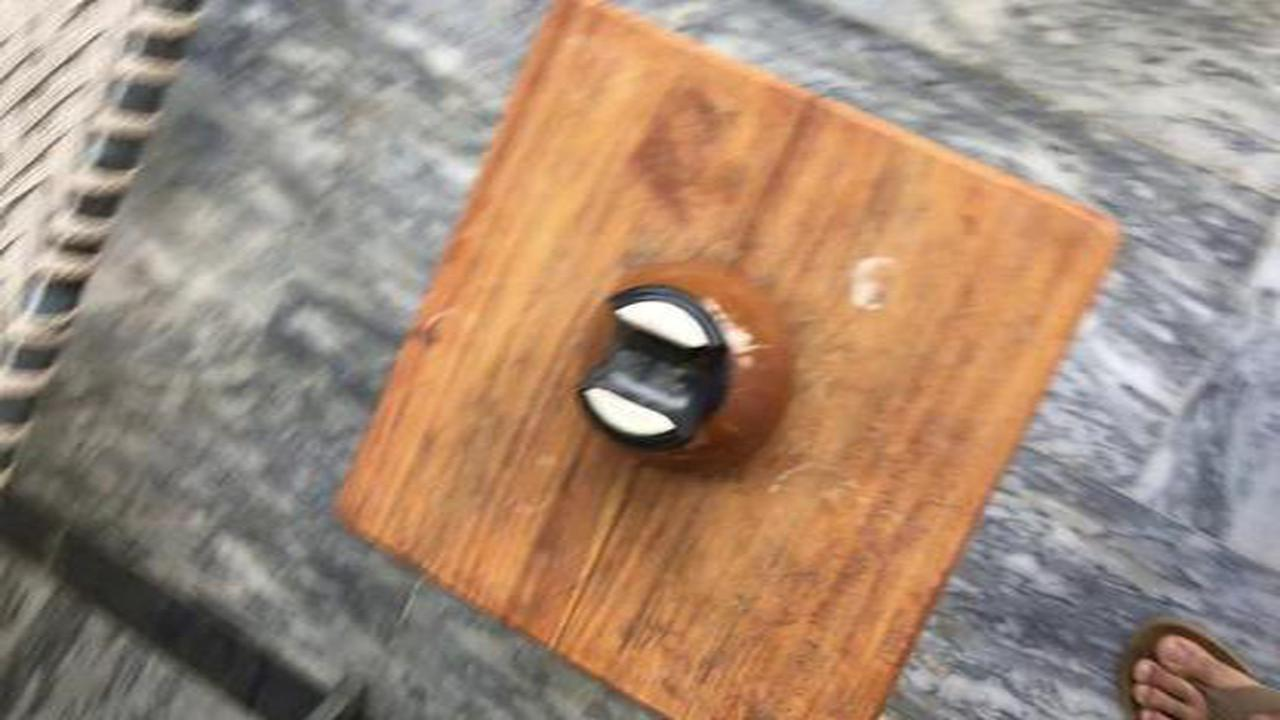insulator_pin: (545, 249, 804, 501)
